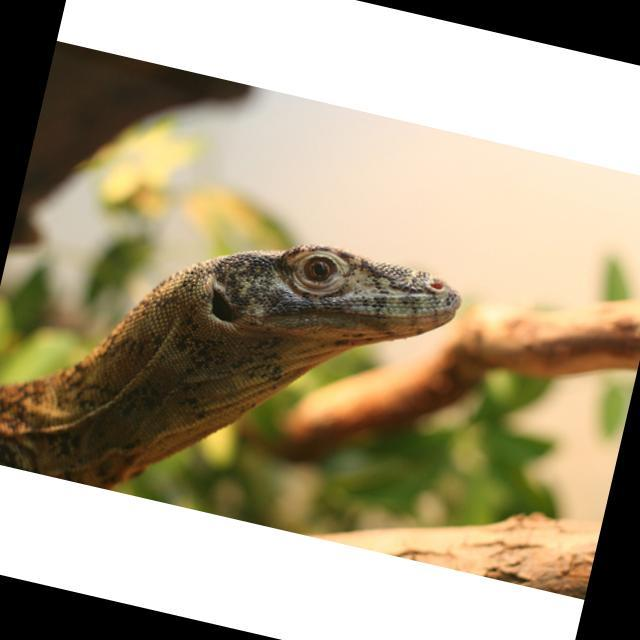KomodoDragon: (0, 172, 469, 555)
